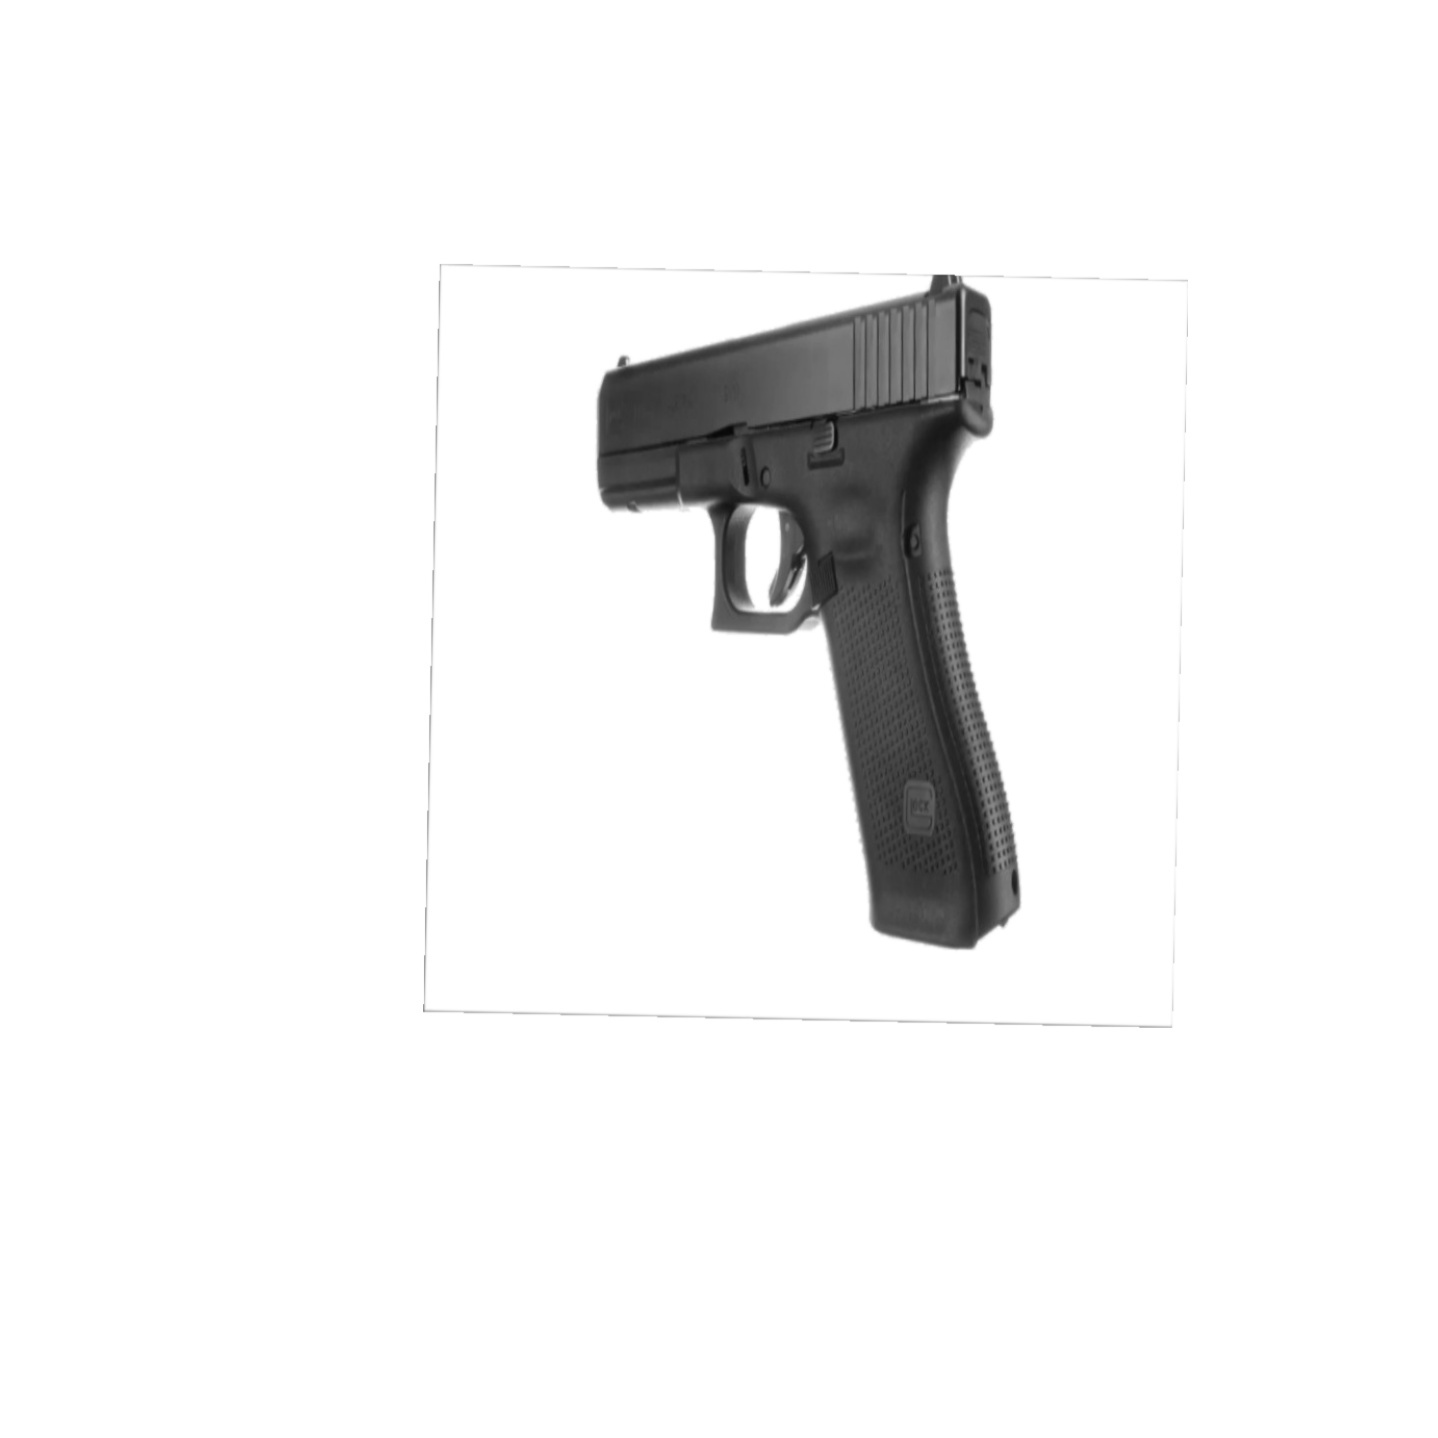gun: (582, 269, 1034, 956)
